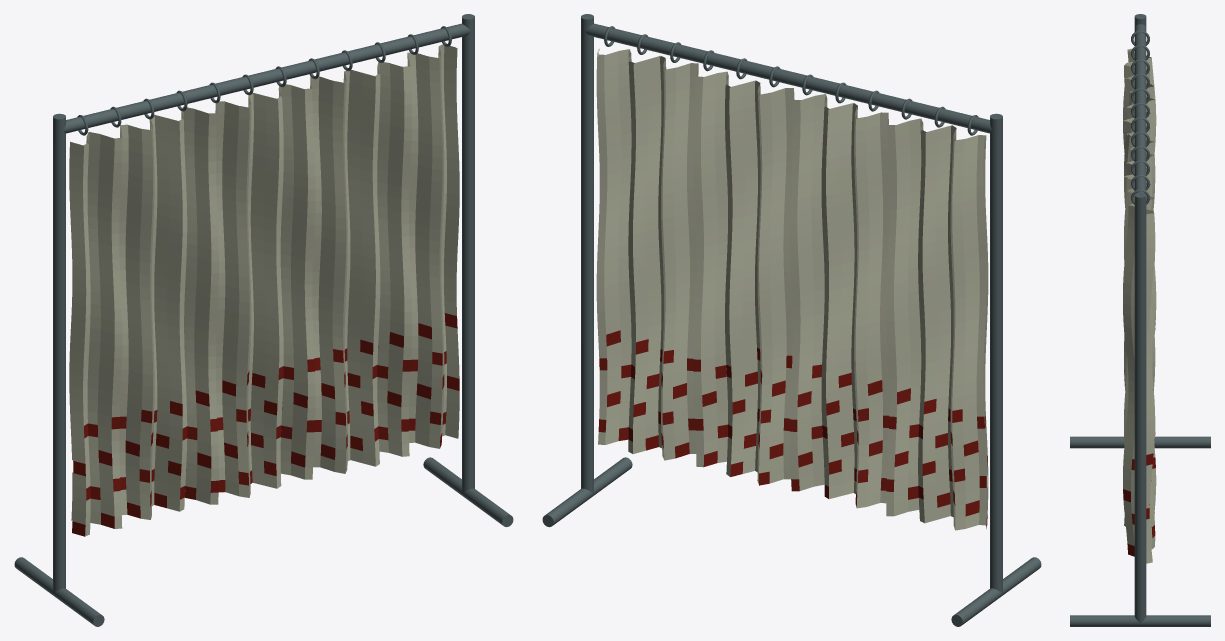
The model's file is PrivacyScreen.obj.
3 views of the same model, side by side, from view 1: azimuth 30°, elevation 25°; view 2: azimuth 150°, elevation 25°; view 3: azimuth 270°, elevation 25° (orthographic). The views are drawn at different scales.
Parts seen in each view (by area): view 1: PrivacyScreen; view 2: PrivacyScreen; view 3: PrivacyScreen.
Part boxes in pixels (box(x1,y1,x2,y2)): PrivacyScreen: box(14, 14, 513, 626); PrivacyScreen: box(542, 14, 1041, 626); PrivacyScreen: box(1070, 14, 1210, 626).
Size of the model in its own units: 1.85 by 2.02 by 0.6.
